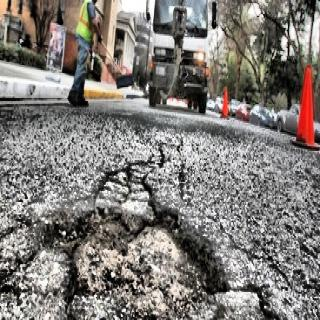crack: (84, 132, 198, 208), (1, 207, 48, 320), (237, 265, 284, 320)
pothole: (46, 199, 231, 320)
